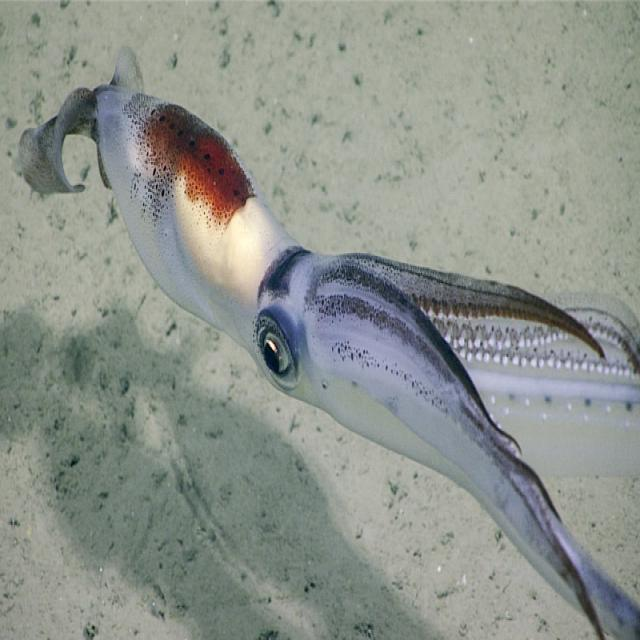SQUID: (17, 47, 640, 640)
